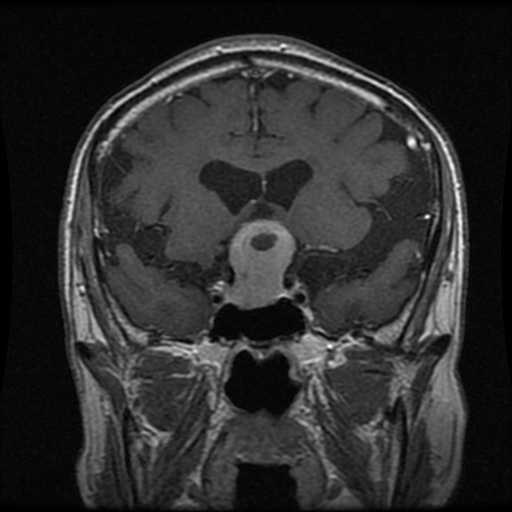pituitary: (218, 219, 298, 308)
